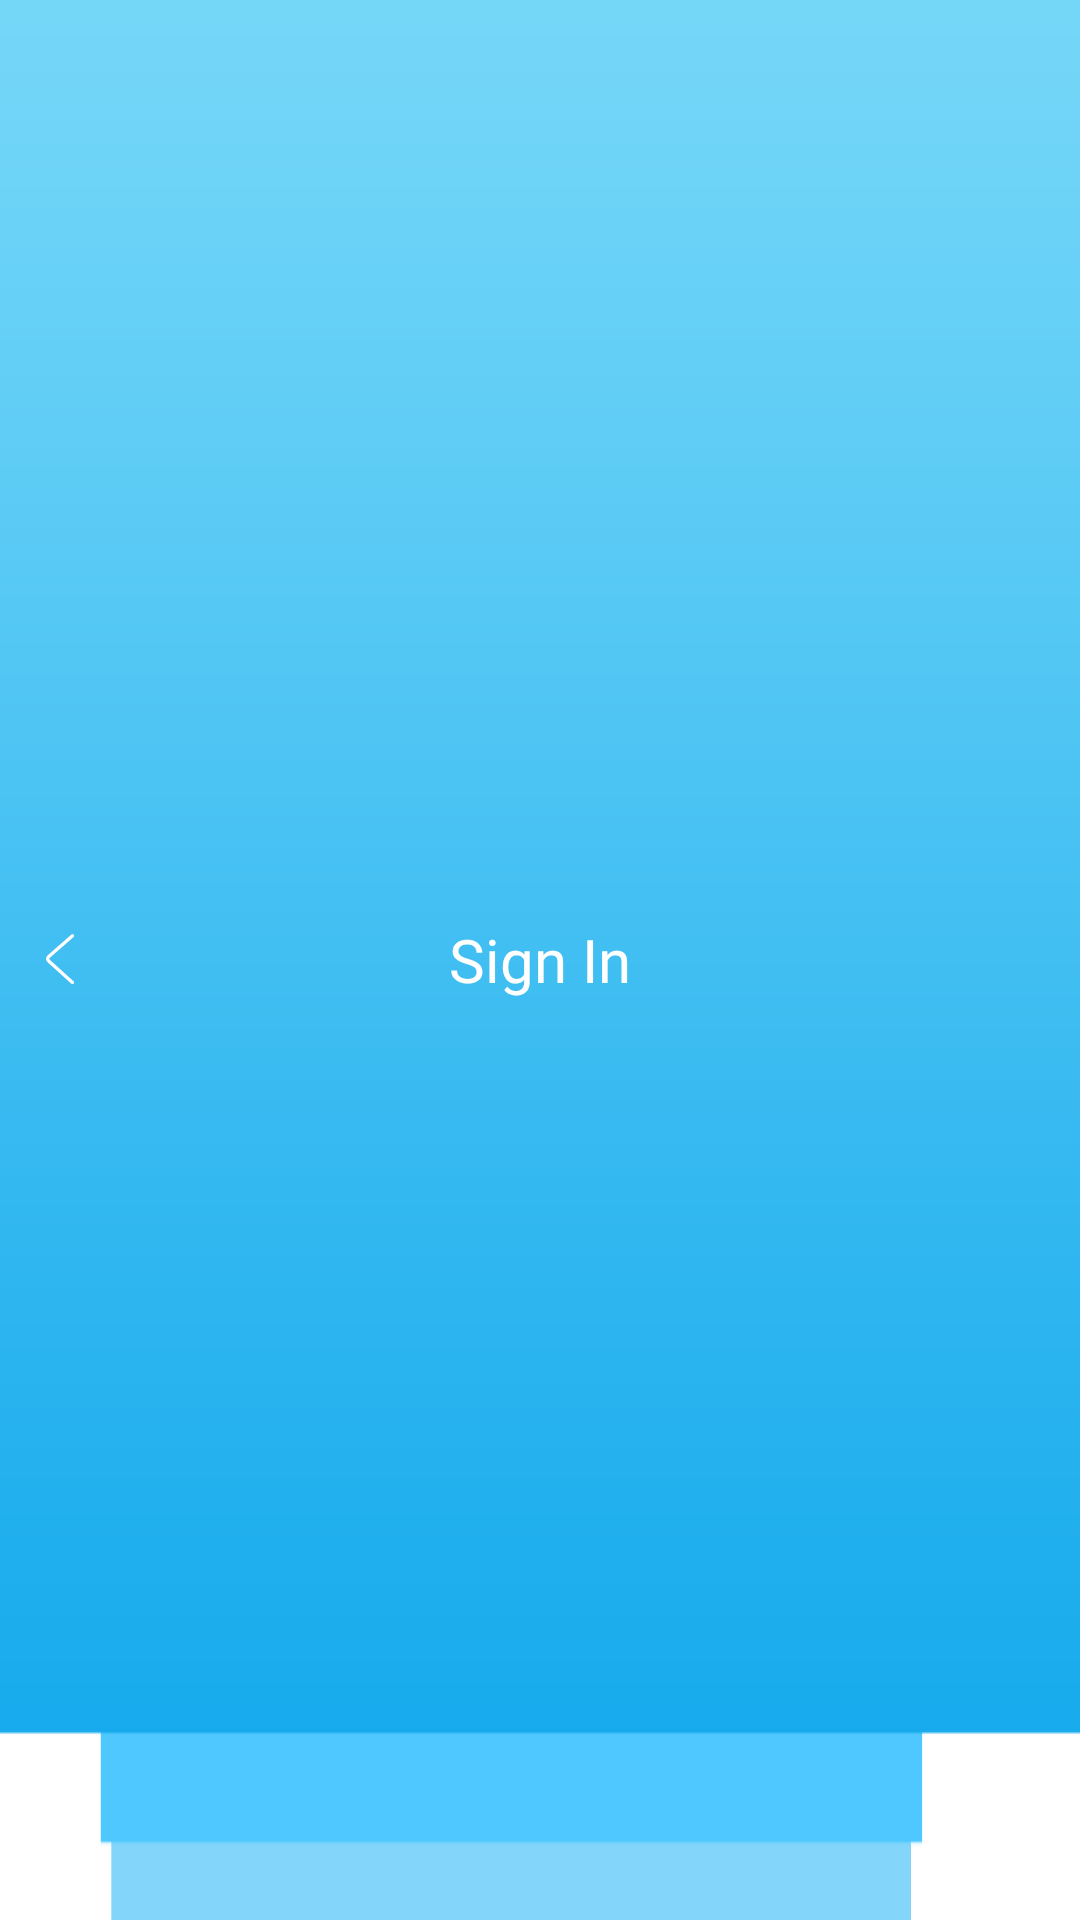

Where icons sit on this 1080px×1920px app screen, as BBox(x1, y1, x2, y2):
back: BBox(46, 934, 74, 984)
